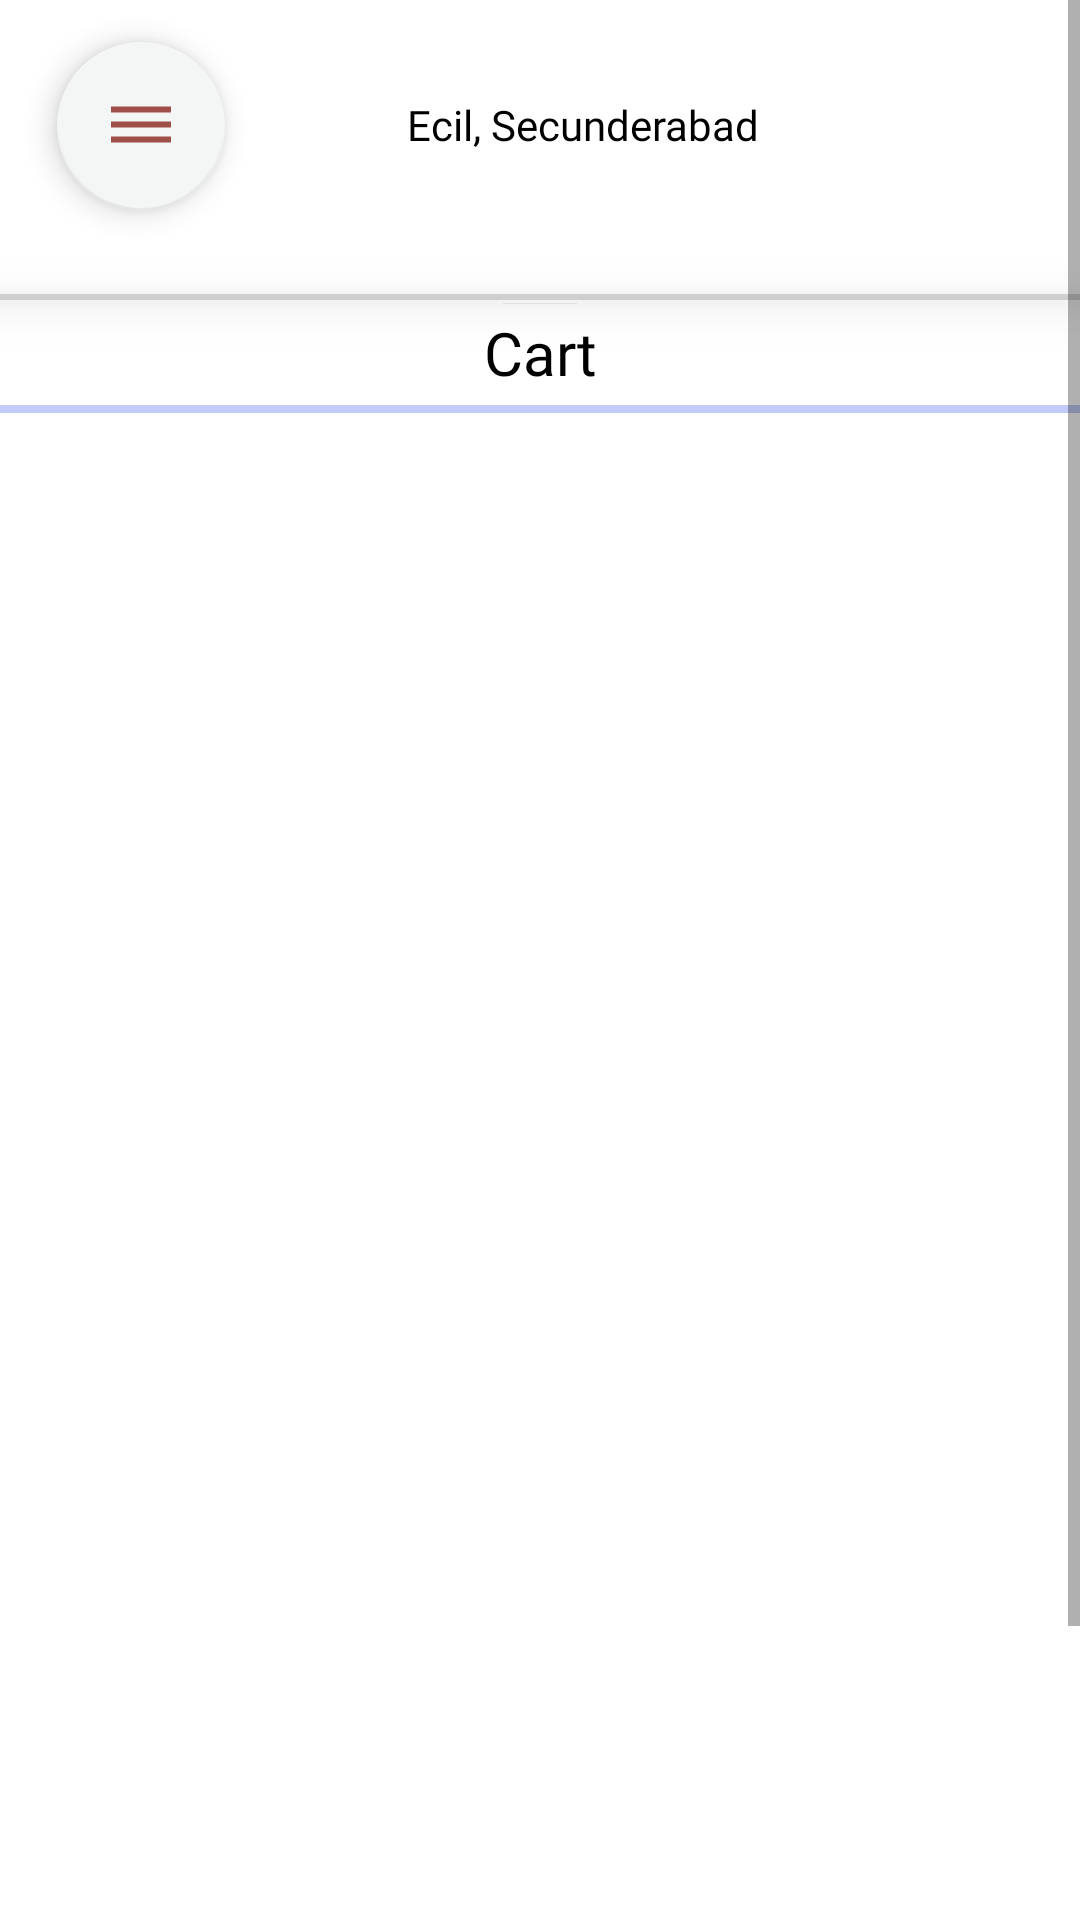

Where icons sit on this 1080px x 1920px app screen, as bbox(x1, y1, x2, y2):
dehaze: bbox(57, 42, 225, 210)
